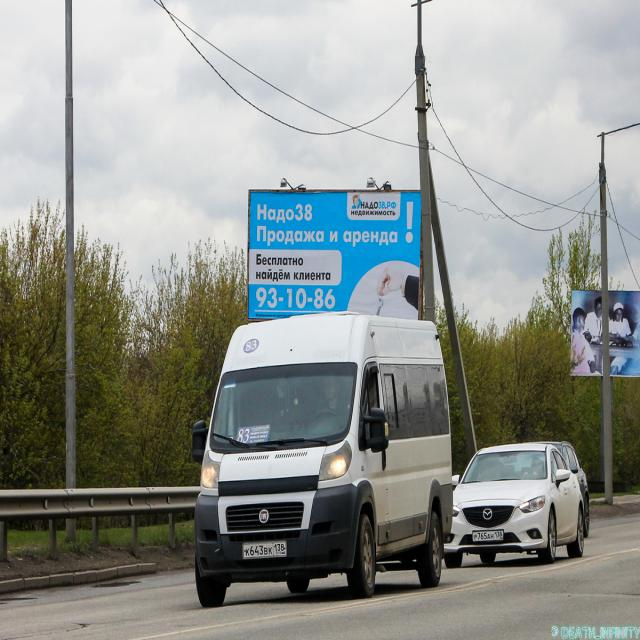number-of-bus: (239, 430, 251, 445)
